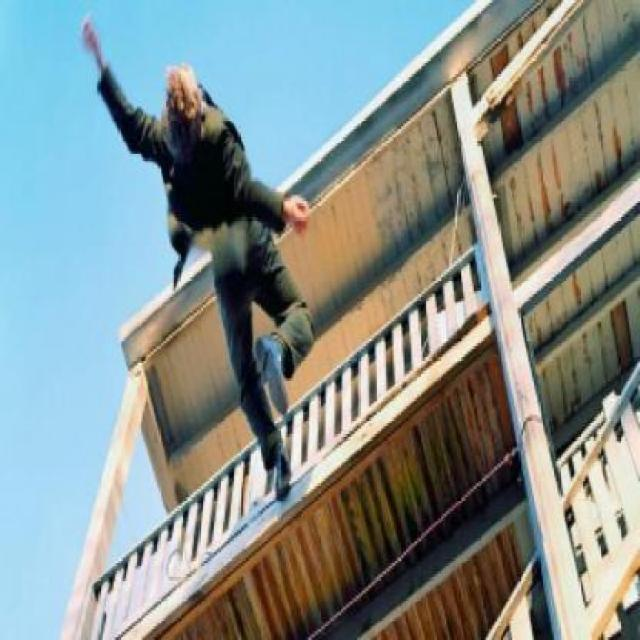fall: (81, 21, 321, 507)
